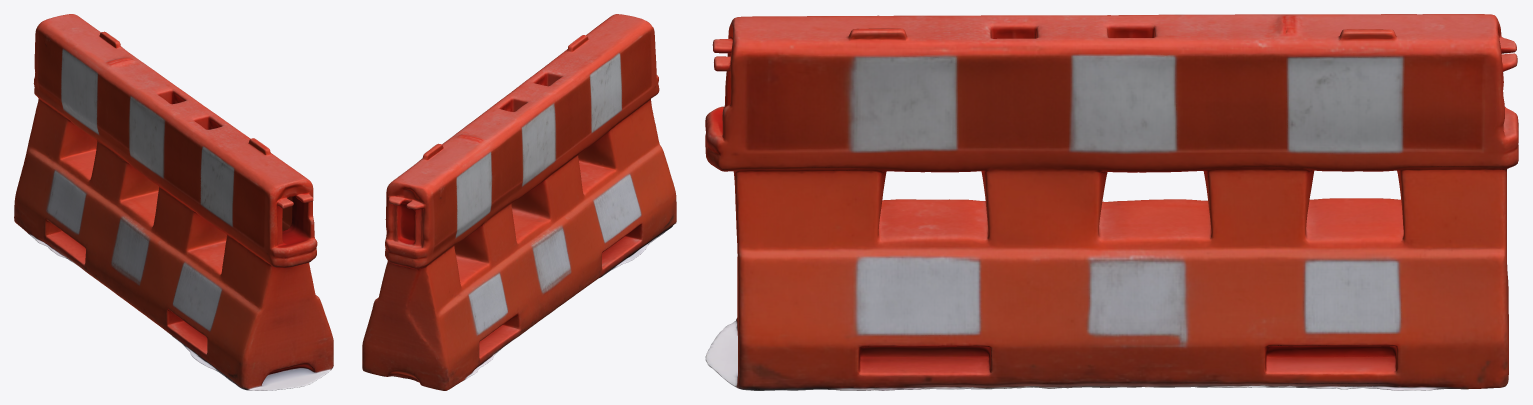
3 views of the same model, side by side, from view 1: azimuth 30°, elevation 25°; view 2: azimuth 150°, elevation 25°; view 3: azimuth 270°, elevation 25° (orthographic). The views are drawn at different scales.
Parts seen in each view (by area): view 1: geometry_0; view 2: geometry_0; view 3: geometry_0.
Boxes of the visible parts, <box> form: geometry_0: <box>14,14,333,390</box>; geometry_0: <box>362,14,676,390</box>; geometry_0: <box>705,14,1518,390</box>.
Bounding box in the file's own units: 0.2245 × 0.4578 × 1.
1 material, 1 textured.
